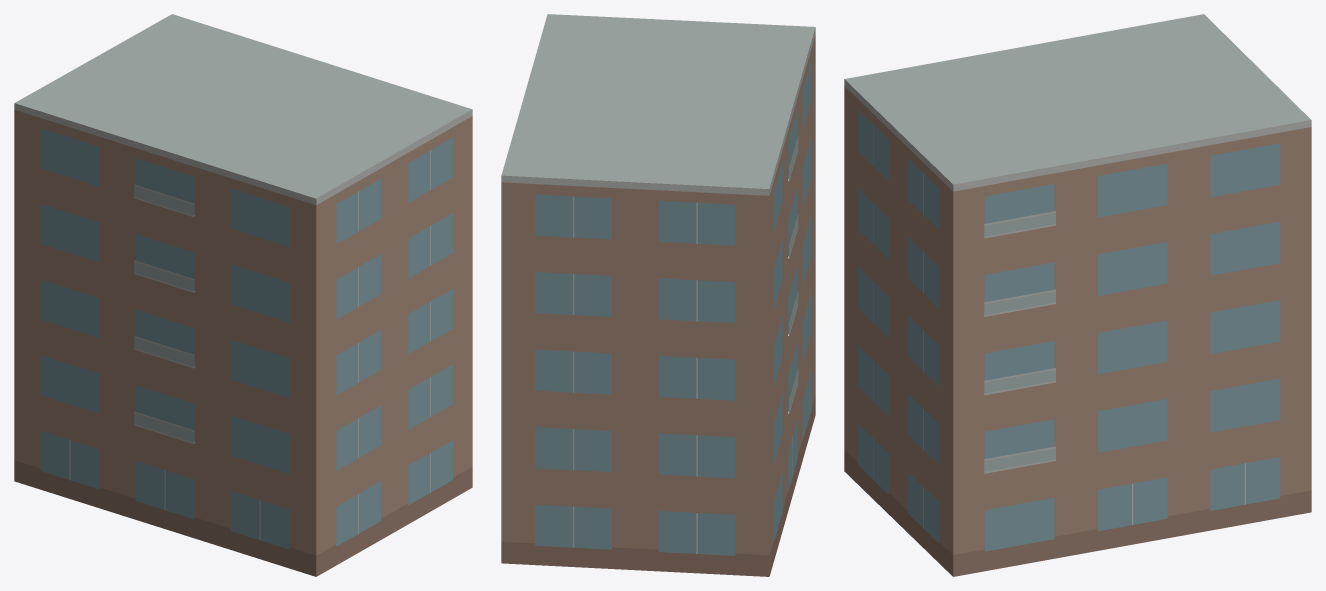
The model's file is survey-upis-32888463.glb.
3 renders of one model, left to right at view 1: azimuth 30°, elevation 25°; view 2: azimuth 150°, elevation 25°; view 3: azimuth 270°, elevation 25°, orthographic. The views are drawn at different scales.
Parts seen in each view (by area): view 1: survey-upis-32888463.tmp; view 2: survey-upis-32888463.tmp; view 3: survey-upis-32888463.tmp.
Part boxes in pixels (x1=…): survey-upis-32888463.tmp: x1=14, y1=14, x2=472, y2=576; survey-upis-32888463.tmp: x1=501, y1=14, x2=815, y2=576; survey-upis-32888463.tmp: x1=844, y1=14, x2=1311, y2=576.
Size of the model in its own units: 13.08 by 14 by 15.13.
